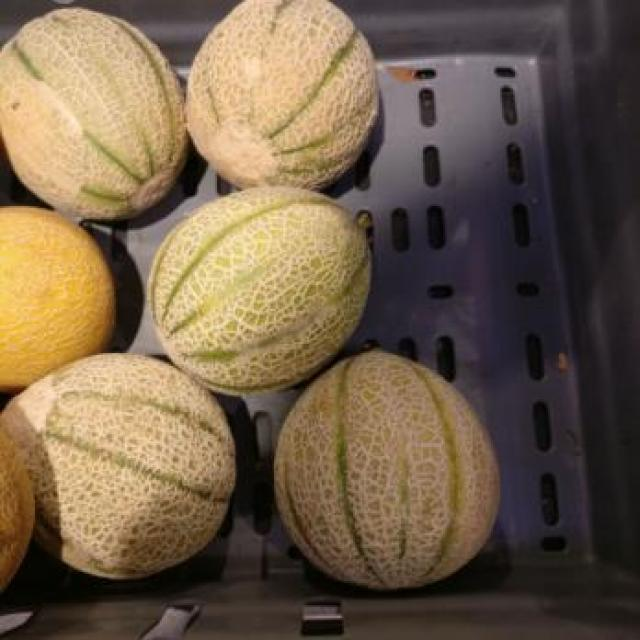Cantaloupe: (274, 350, 502, 593), (0, 355, 237, 580), (147, 190, 373, 400), (0, 9, 184, 218), (186, 0, 383, 188), (0, 208, 118, 394)
